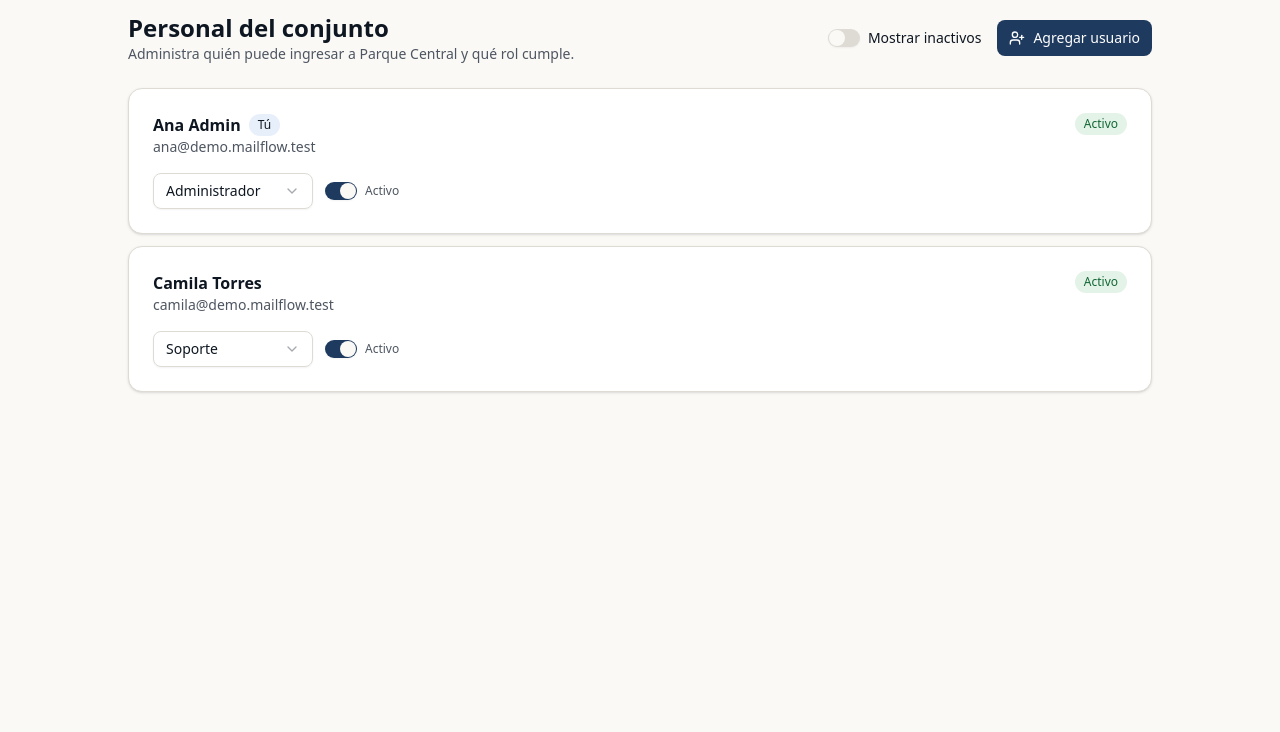
Test: UsuariosPage · estados y listado › fila con cuentaActiva: false muestra insignia «Cuenta deshabilitada» y controles deshabilitados con explicación accesible
Expected: the text "Camila Torres" is shown, x1=153 y1=271 x2=262 y2=295
Click the switch named "mostrar inactivos" at (844, 38), box x1=828 y1=29 x2=860 y2=47
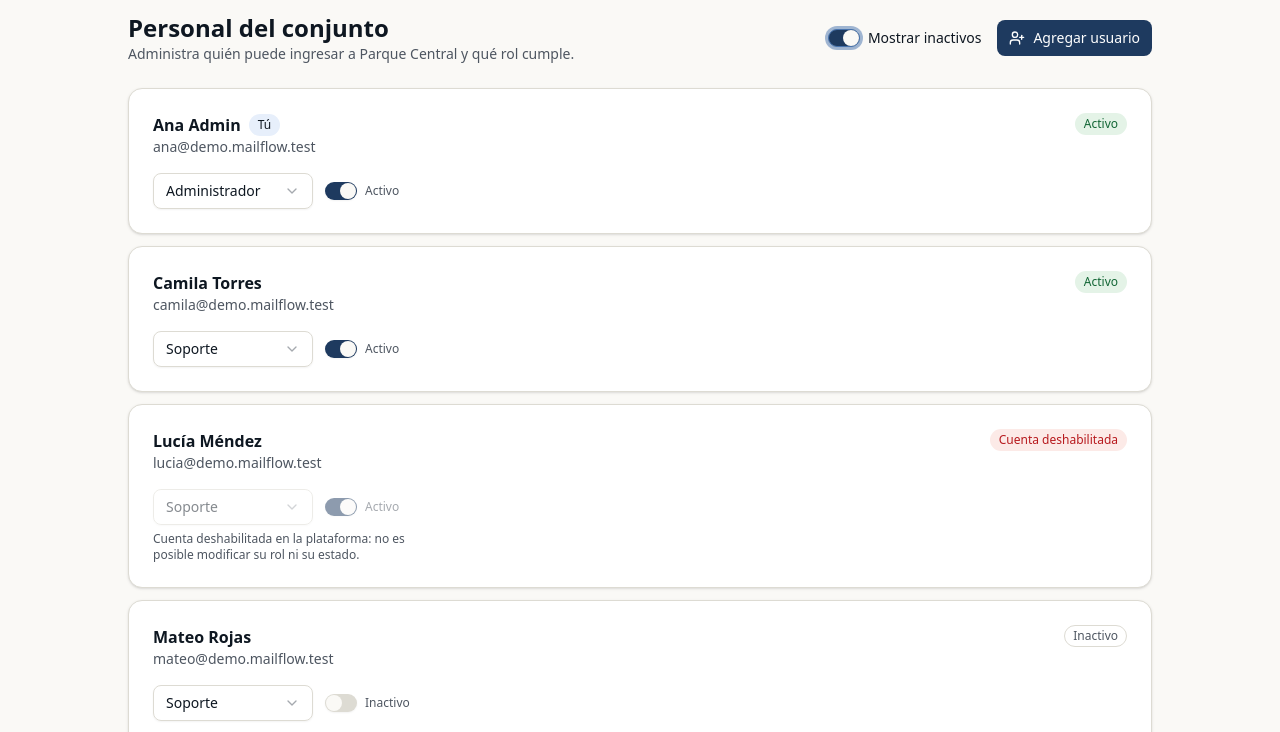
Expected: the text "Lucía Méndez" is shown, x1=153 y1=429 x2=262 y2=453
Expected: the text "Cuenta deshabilitada" is shown, x1=990 y1=429 x2=1127 y2=451
Expected: the dropdown named "rol de lucía méndez" is disabled, x1=153 y1=489 x2=313 y2=525
